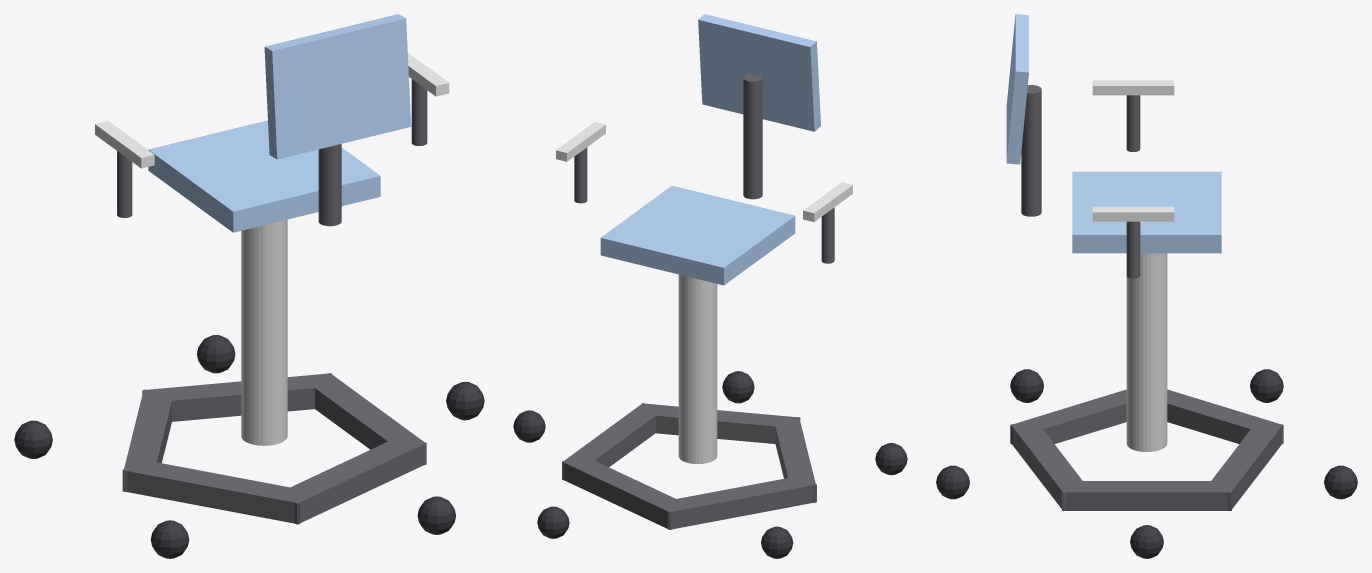
Rendered from clinical_office_chair.glb.
3 renders of one model, left to right at view 1: azimuth 30°, elevation 25°; view 2: azimuth 150°, elevation 25°; view 3: azimuth 270°, elevation 25°, orthographic. The views are drawn at different scales.
Visible parts, largest first — view 1: chair_backrest, chair_seat, chair_cylinder, chair_leg_3, chair_leg_4, chair_leg_0, chair_leg_1, chair_leg_2, chair_back_post, chair_armrest_-, chair_wheel_2, chair_wheel_3 (+6 smaller); view 2: chair_seat, chair_backrest, chair_cylinder, chair_leg_2, chair_leg_1, chair_leg_0, chair_leg_4, chair_back_post, chair_leg_3, chair_armrest_+, chair_armrest_-, chair_wheel_0 (+6 smaller); view 3: chair_seat, chair_cylinder, chair_leg_0, chair_leg_1, chair_leg_4, chair_leg_3, chair_leg_2, chair_backrest, chair_back_post, chair_armrest_-, chair_armrest_+, chair_wheel_1 (+6 smaller).
Part boxes in pixels (left/top/right/bottom): chair_backrest: left=264, top=14, right=411, bottom=159; chair_seat: left=148, top=120, right=380, bottom=232; chair_cylinder: left=241, top=219, right=287, bottom=445; chair_leg_3: left=122, top=462, right=300, bottom=524; chair_leg_4: left=275, top=434, right=426, bottom=524; chair_leg_0: left=303, top=373, right=426, bottom=465; chair_leg_1: left=142, top=373, right=335, bottom=421; chair_leg_2: left=123, top=389, right=171, bottom=491; chair_back_post: left=318, top=144, right=341, bottom=226; chair_armrest_-: left=95, top=121, right=154, bottom=168; chair_wheel_2: left=14, top=420, right=52, bottom=458; chair_wheel_3: left=150, top=520, right=189, bottom=558; chair_seat: left=600, top=185, right=795, bottom=285; chair_backrest: left=698, top=14, right=820, bottom=131; chair_cylinder: left=678, top=274, right=717, bottom=463; chair_leg_2: left=667, top=474, right=816, bottom=529; chair_leg_1: left=562, top=460, right=676, bottom=529; chair_leg_0: left=562, top=403, right=664, bottom=480; chair_leg_4: left=636, top=403, right=800, bottom=443; chair_back_post: left=743, top=74, right=762, bottom=199; chair_leg_3: left=774, top=417, right=815, bottom=502; chair_armrest_+: left=556, top=122, right=605, bottom=161; chair_armrest_-: left=803, top=182, right=852, bottom=221; chair_wheel_0: left=513, top=410, right=545, bottom=442; chair_seat: left=1072, top=171, right=1221, bottom=253; chair_cylinder: left=1126, top=253, right=1167, bottom=451; chair_leg_0: left=1062, top=481, right=1231, bottom=510; chair_leg_1: left=1205, top=421, right=1282, bottom=511; chair_leg_4: left=1011, top=421, right=1088, bottom=511; chair_leg_3: left=1010, top=389, right=1126, bottom=444; chair_leg_2: left=1167, top=389, right=1283, bottom=444; chair_backrest: left=1006, top=14, right=1028, bottom=164; chair_back_post: left=1021, top=85, right=1041, bottom=216; chair_armrest_-: left=1092, top=80, right=1174, bottom=95; chair_armrest_+: left=1092, top=206, right=1174, bottom=221; chair_wheel_1: left=1324, top=465, right=1357, bottom=499.
Bounding box in the file's own units: 0.5927 × 0.6956 × 0.6206.
